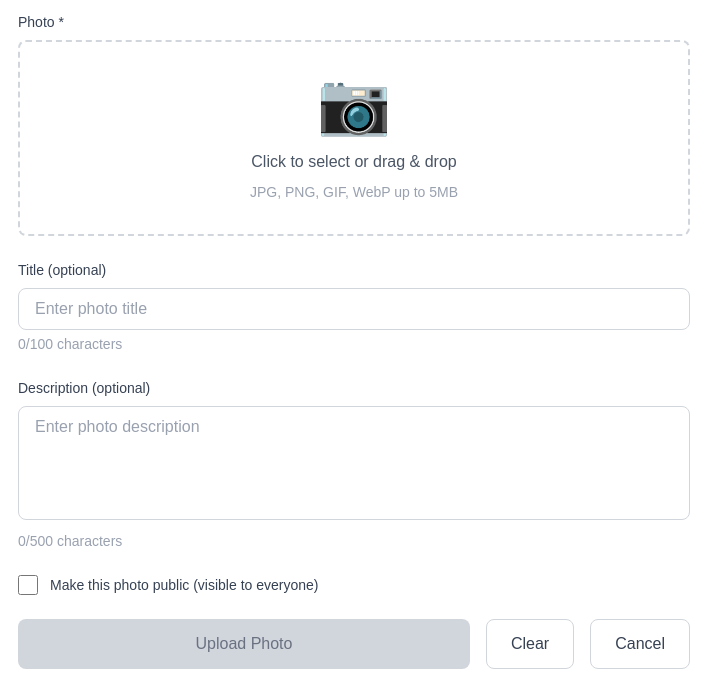
Test: PhotoUploadForm › Description Input › should show character count
The image size is (709, 686).
Type "Test description" into the text box with placeholder "Enter photo description" at (354, 463), box [18,406,690,520]
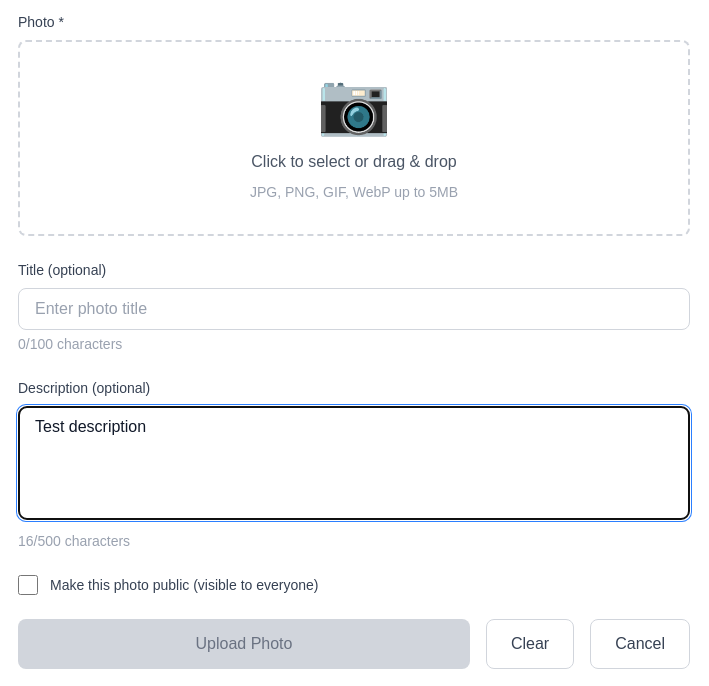
Now the text "16/500 characters" is shown, box [18,533,130,549]
